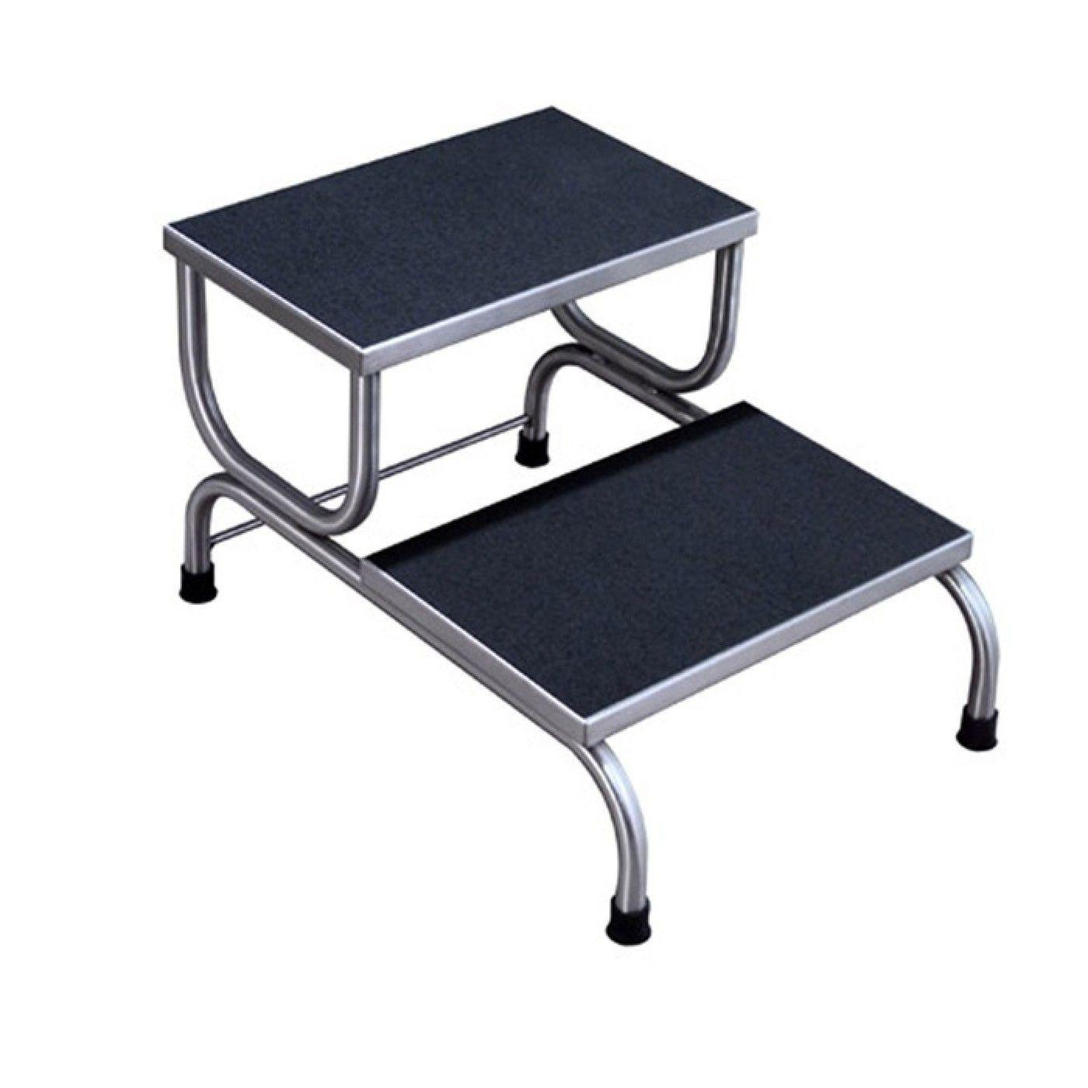stool: (146, 101, 1031, 952)
